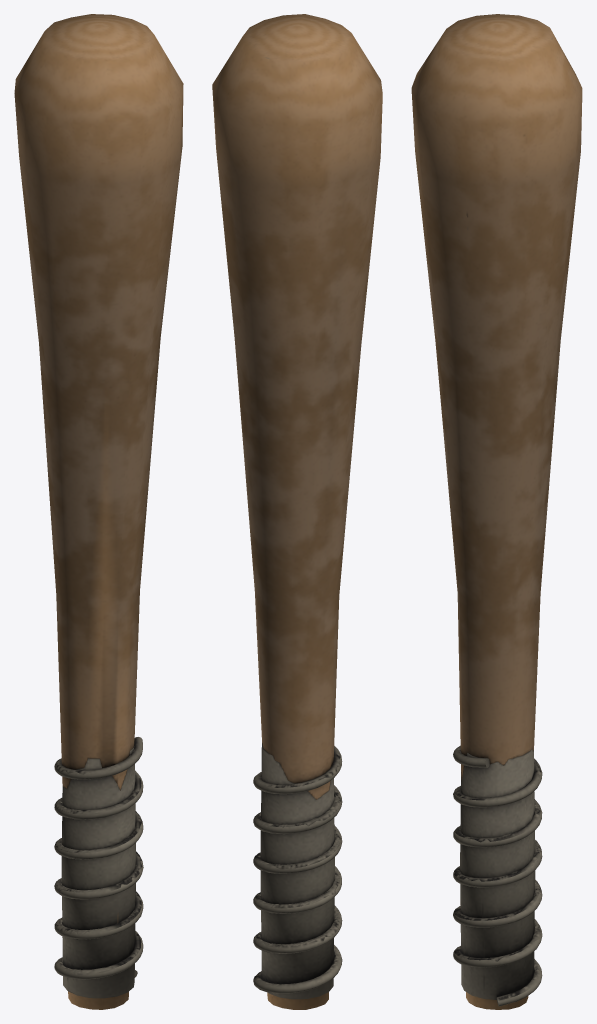
The model's file is arma_clava_enferrujada.glb.
3 renders of one model, left to right at view 1: azimuth 30°, elevation 25°; view 2: azimuth 150°, elevation 25°; view 3: azimuth 270°, elevation 25°, orthographic.
Visible parts, largest first — view 1: arma_clava_enferrujada; view 2: arma_clava_enferrujada; view 3: arma_clava_enferrujada.
Boxes of the visible parts, bbox=[...] form: arma_clava_enferrujada: bbox=[14, 14, 183, 1009]; arma_clava_enferrujada: bbox=[212, 14, 382, 1009]; arma_clava_enferrujada: bbox=[411, 14, 582, 1009].
Bounding box in the file's own units: 0.1237 × 0.7706 × 0.1227.
Materials: 1 (1 with a texture image).
